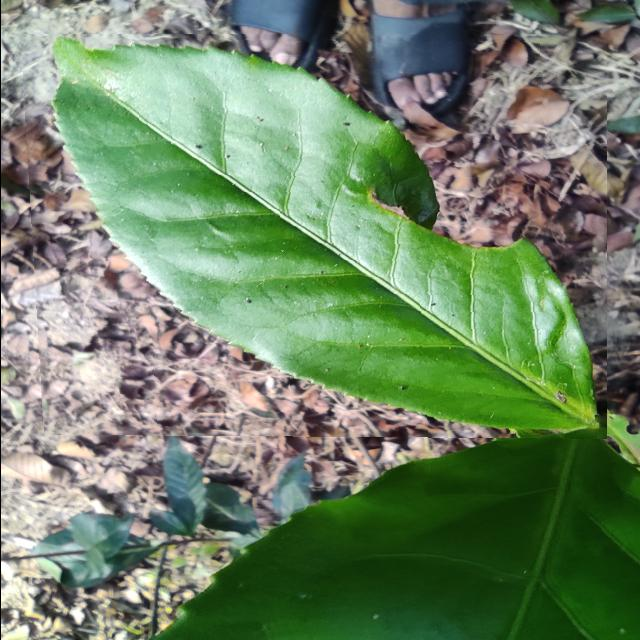Category D(7+ days, Not for Tea): (19, 34, 606, 439)
